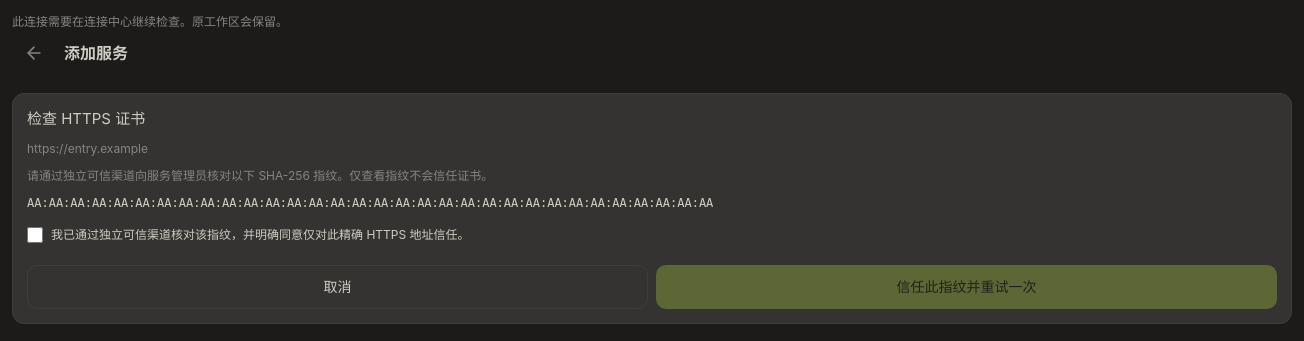
Test: receives a request queued before mount, checks the entry certificate, and retries the full saved route once
The width and height of the screenshot is (1304, 341).
Click the checkbox at (35, 236), box [27,228,43,244]
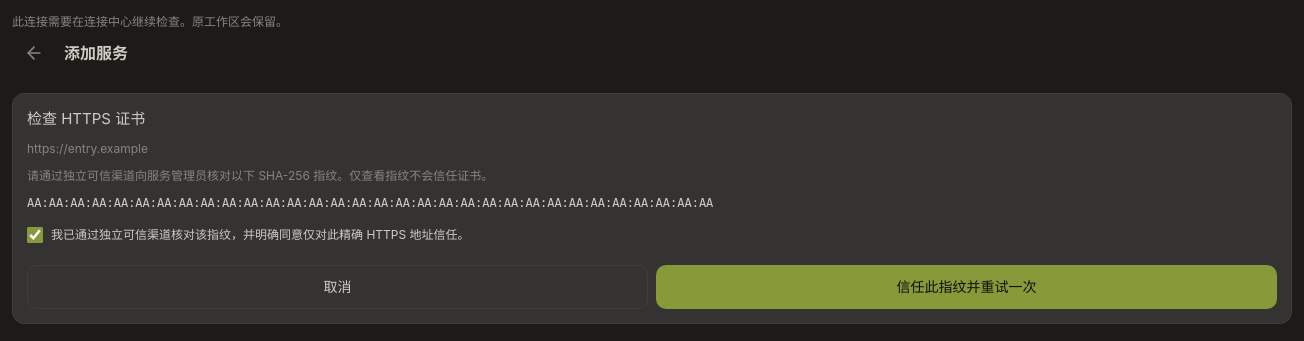
Click the button "信任此指纹并重试一次" at (966, 287), box [656,265,1277,309]
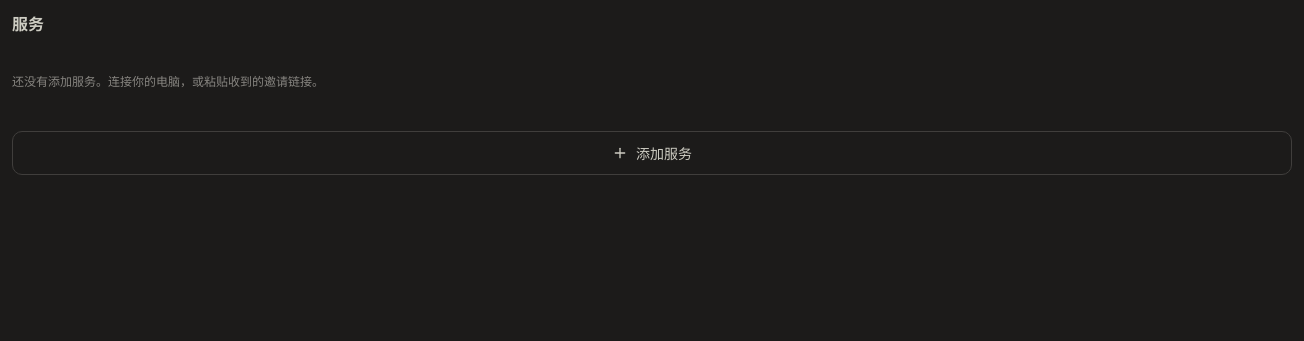
Expected: the element "来自工作区的连接请求" is gone
